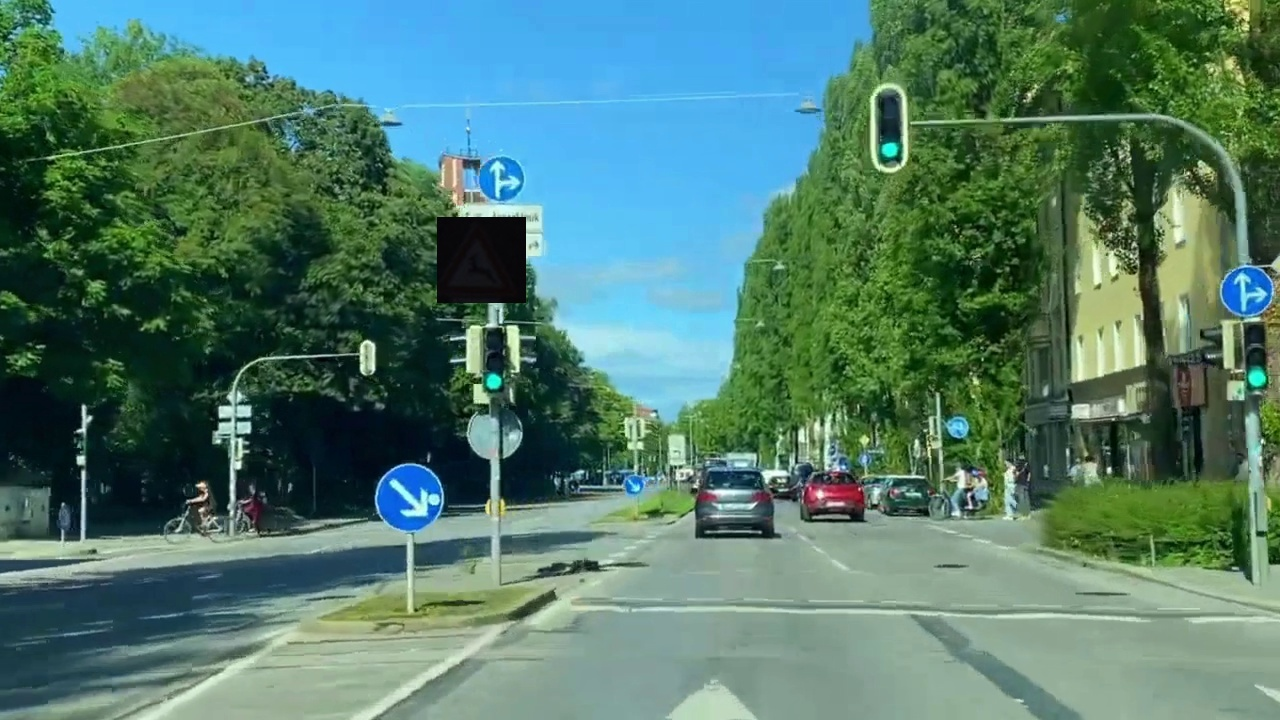Wild animals: (437, 217, 526, 303)
